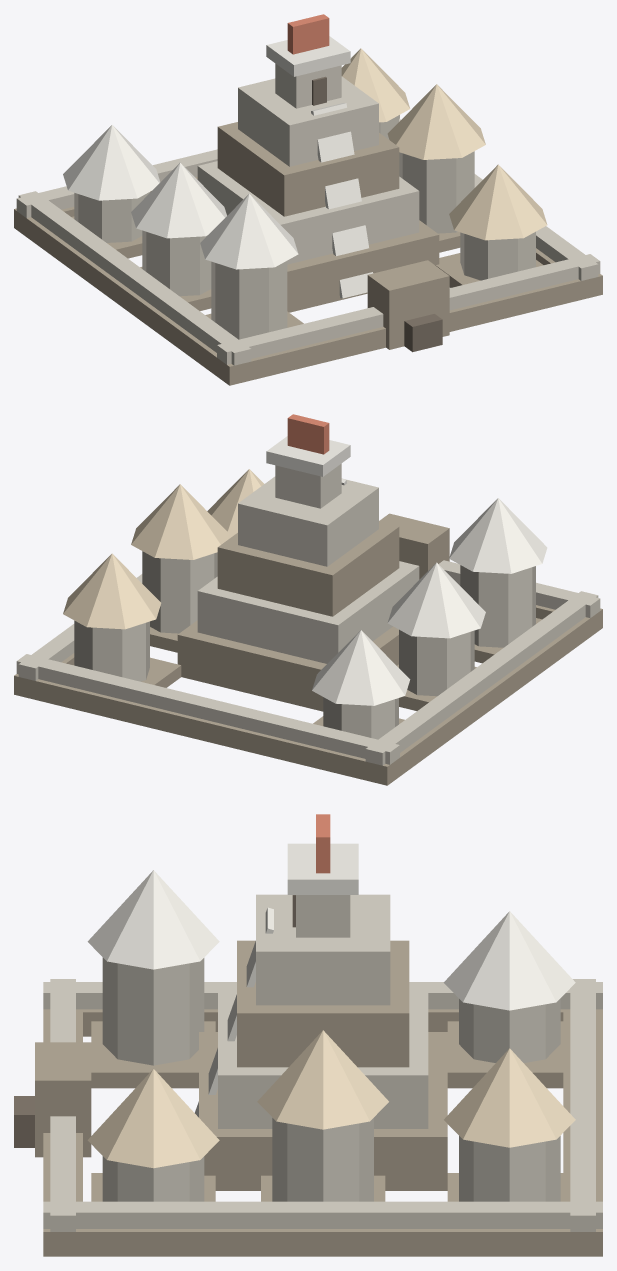
The model's file is city.glb.
3 renders of one model, top to bottom at view 1: azimuth 30°, elevation 25°; view 2: azimuth 150°, elevation 25°; view 3: azimuth 270°, elevation 25°, orthographic. The views are drawn at different scales.
Visible parts, largest first — view 1: mesoamerican_city; view 2: mesoamerican_city; view 3: mesoamerican_city.
Part boxes in pixels (left/top/right/bottom): mesoamerican_city: left=14, top=14, right=602, bottom=385; mesoamerican_city: left=14, top=414, right=602, bottom=785; mesoamerican_city: left=14, top=814, right=602, bottom=1256.
Bounding box in the file's own units: 0.9501 × 0.5854 × 1.
